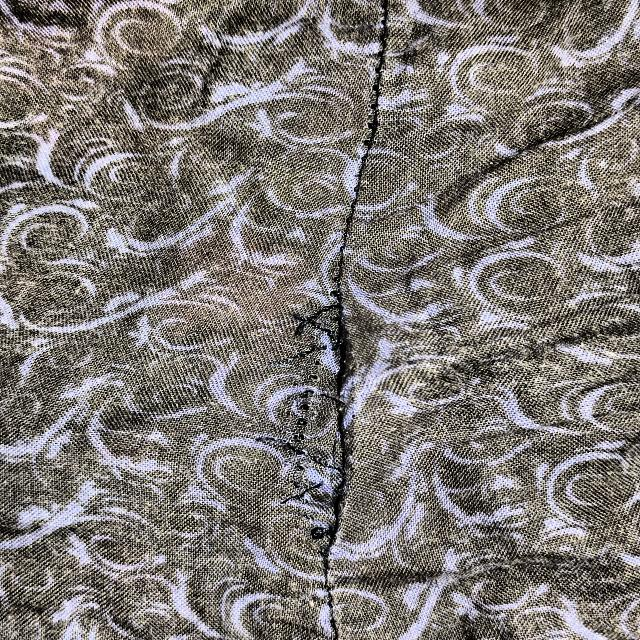seam: (235, 246, 395, 609)
